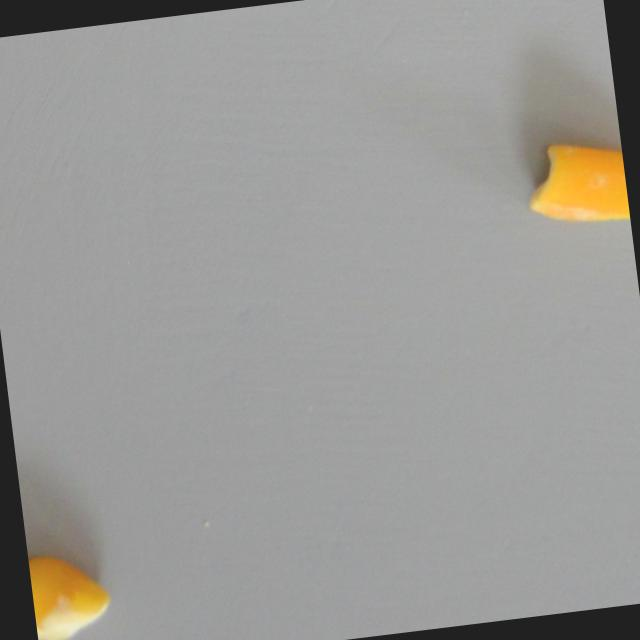pelicula: (521, 134, 631, 236)
